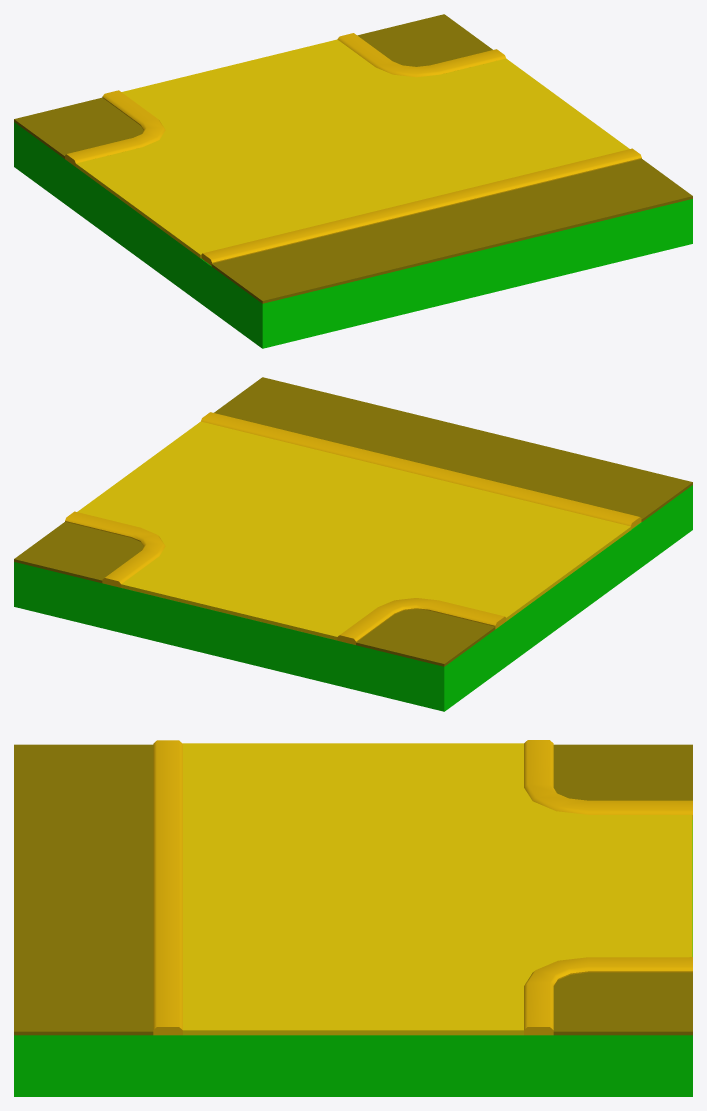
Rendered from TStreet_SM.fbx.
3 views of the same model, one above another, from view 1: azimuth 30°, elevation 25°; view 2: azimuth 150°, elevation 25°; view 3: azimuth 270°, elevation 25° (orthographic). The views are drawn at different scales.
Visible parts, largest first — view 1: TStreet; view 2: TStreet; view 3: TStreet.
Part boxes in pixels (<box>): TStreet: <box>14,14,692,348</box>; TStreet: <box>14,377,692,711</box>; TStreet: <box>14,740,692,1096</box>.
Bounding box in the file's own units: 100 × 11.35 × 100.
